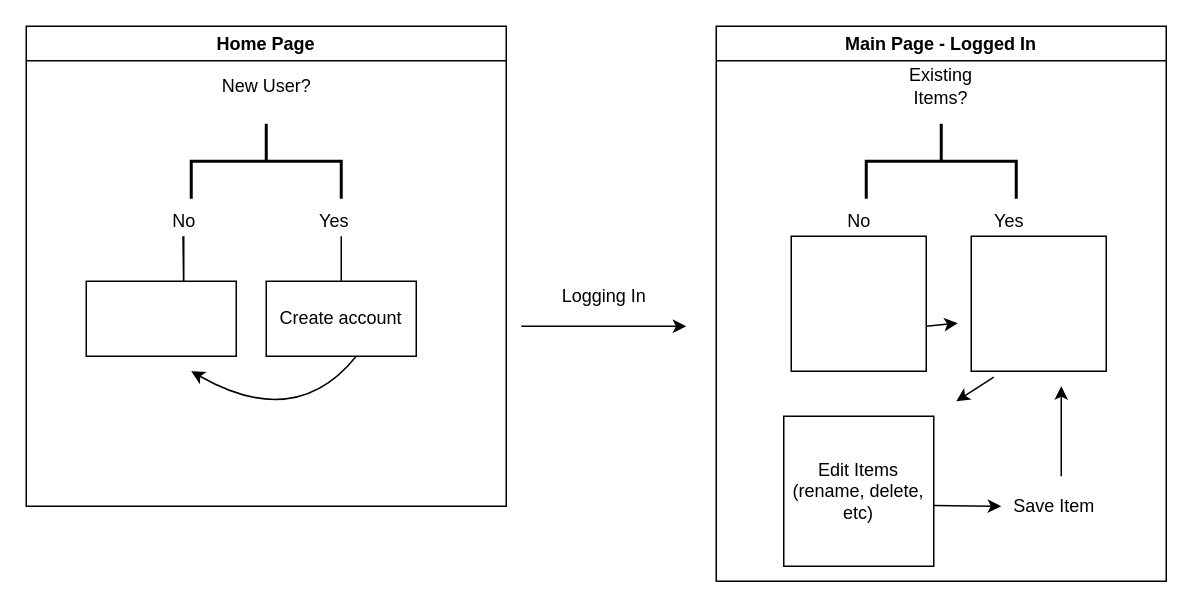
Image size: 1193x608. Some labels were removed from this diagram. The centre of each missing label's shape, as x and y in pixels:
"Create Item (Name, Vendor, Transaction ID)" goes at (858,303).
"List Items" goes at (1038,303).
"Login" goes at (160,318).
